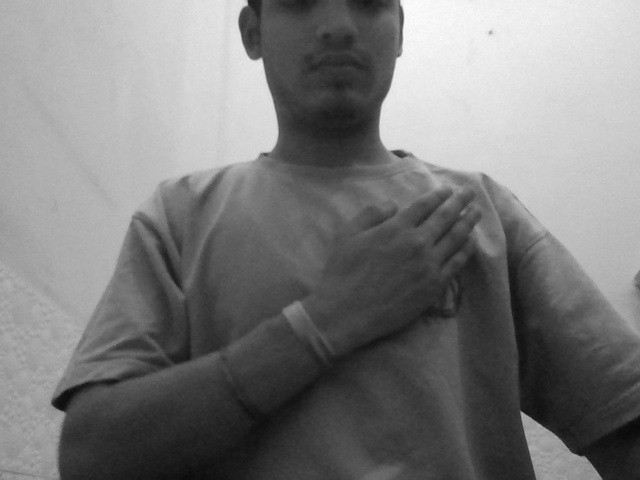Sorry: (283, 183, 499, 336)
